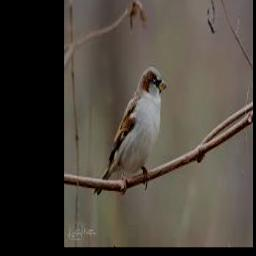Sparrow: (93, 66, 167, 195)
